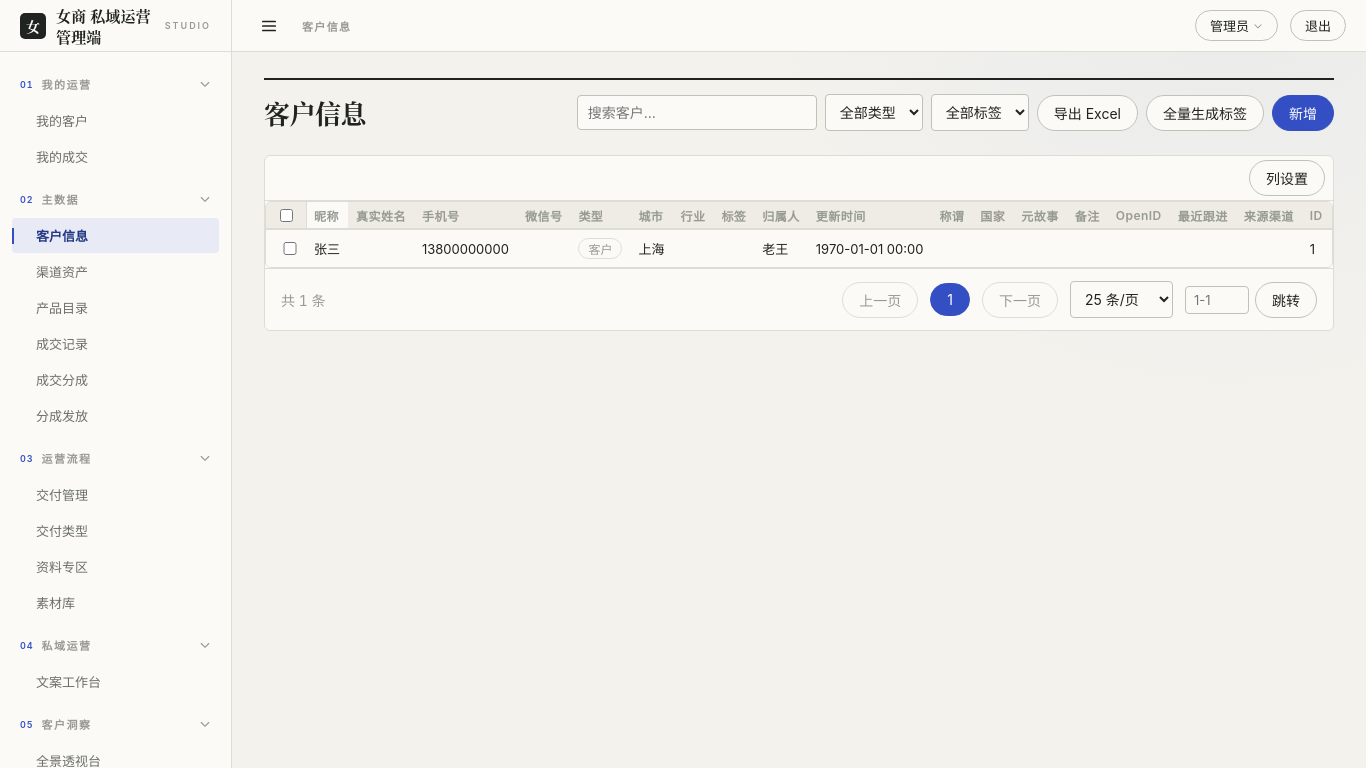
客户信息页 › 全量生成标签：确认后创建后台任务（POST /background-jobs，无筛选 params={}）并跳转后台任务 tab
Expected: the text "张三" is shown, left=306, top=230, right=348, bottom=267
Click the button "全量生成标签" at (1205, 112), box left=1146, top=94, right=1264, bottom=130
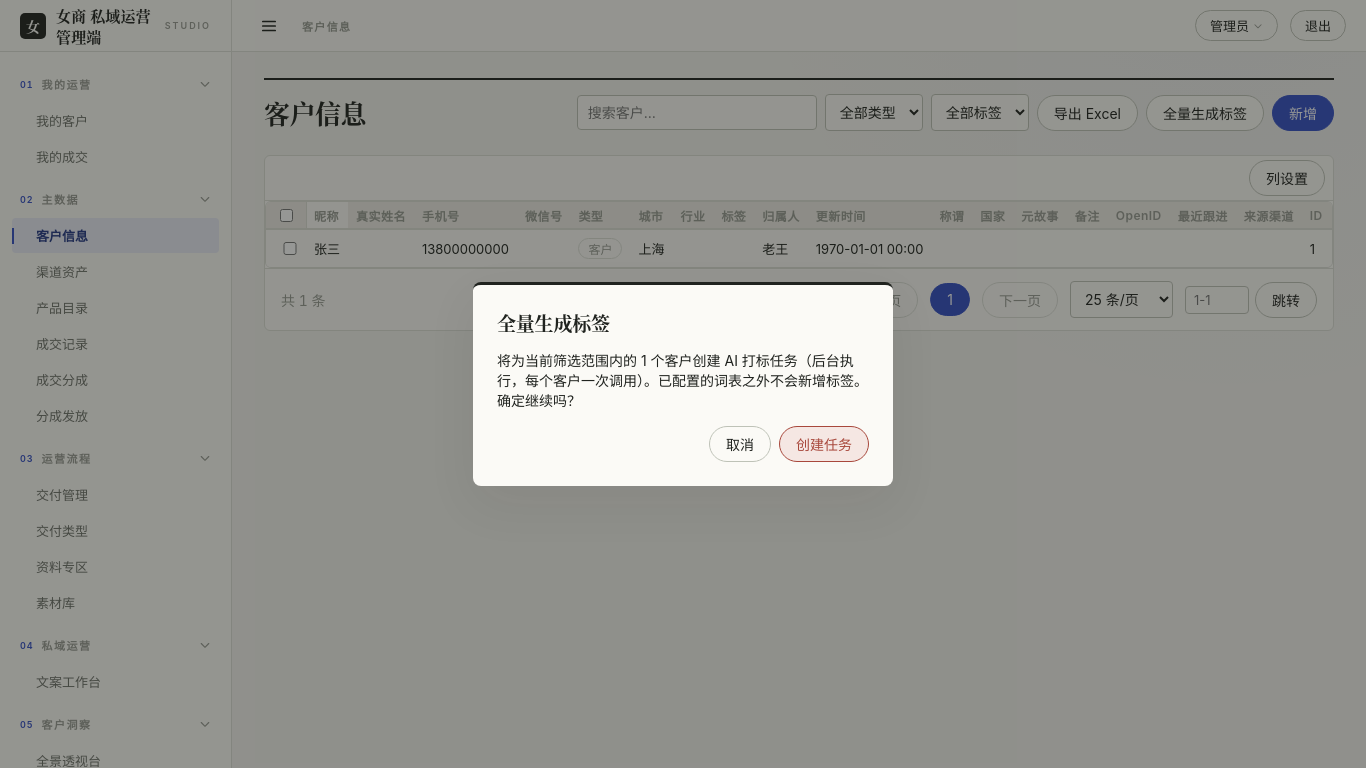
Expected: the text "1 个客户" is shown, left=497, top=352, right=868, bottom=409
Click the button "创建任务" at (824, 444), box left=779, top=426, right=869, bottom=462
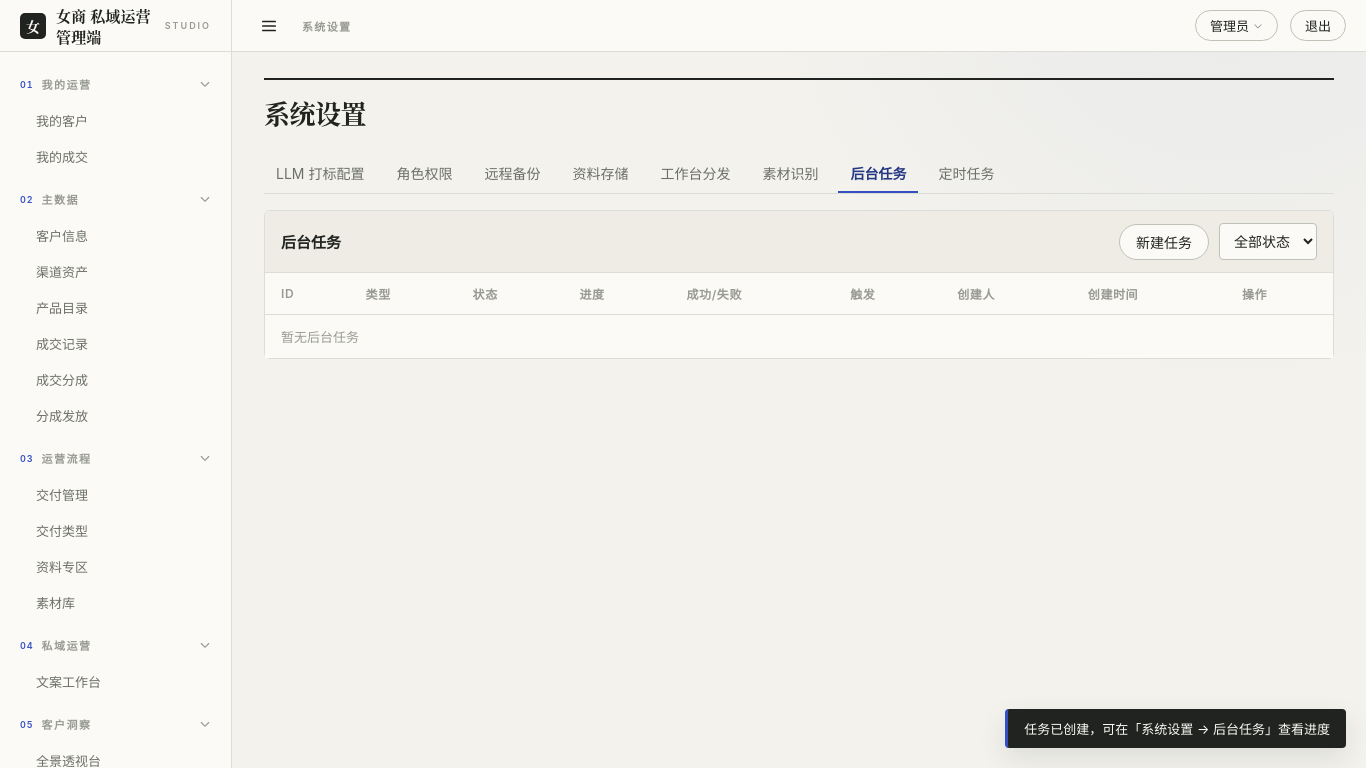
Expected: the tab "后台任务" is shown, left=838, top=155, right=918, bottom=193
